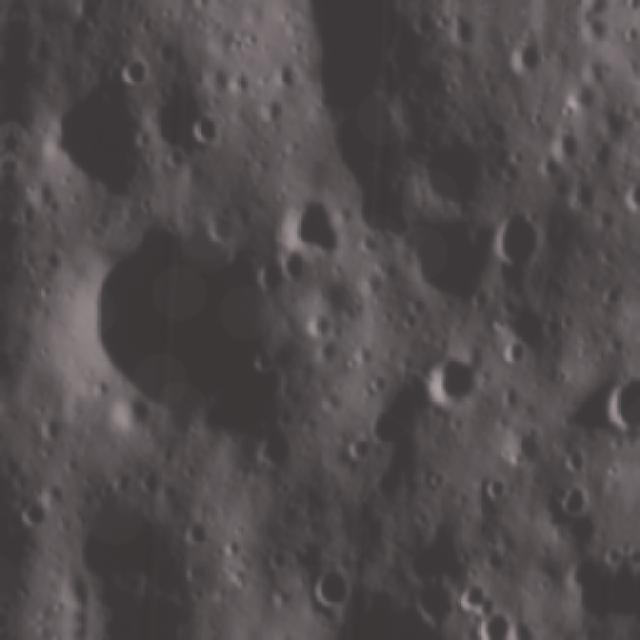crater: (48, 208, 303, 446), (28, 57, 158, 200), (393, 196, 512, 313), (414, 123, 503, 219), (272, 187, 356, 267), (418, 352, 498, 422), (488, 206, 549, 279), (298, 560, 364, 618), (592, 364, 638, 441), (543, 124, 591, 176), (495, 33, 547, 81), (8, 490, 55, 538), (445, 572, 492, 617), (556, 476, 601, 522), (445, 7, 486, 55), (187, 105, 222, 149), (479, 468, 512, 512), (472, 607, 516, 640), (238, 624, 318, 640)
